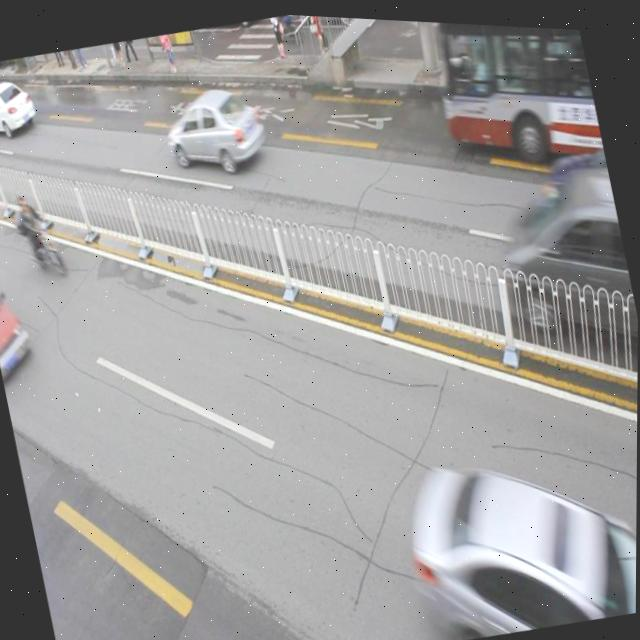car: (400, 411, 638, 640), (158, 72, 272, 181), (0, 265, 38, 384), (0, 74, 40, 142)
truck: (484, 151, 639, 361)
van: (419, 17, 604, 176)
